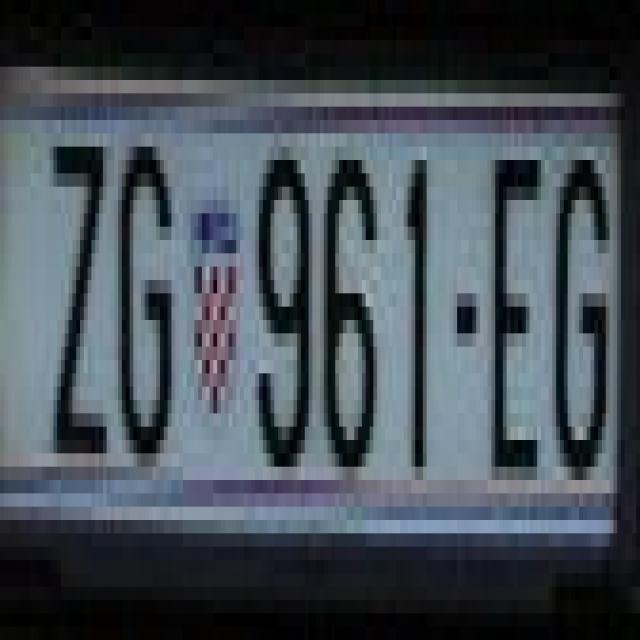1: (396, 133, 438, 467)
6: (320, 146, 381, 466)
9: (248, 134, 312, 454)
E: (488, 146, 544, 506)
G: (548, 133, 614, 467), (118, 134, 175, 454)
Z: (42, 106, 110, 454)
